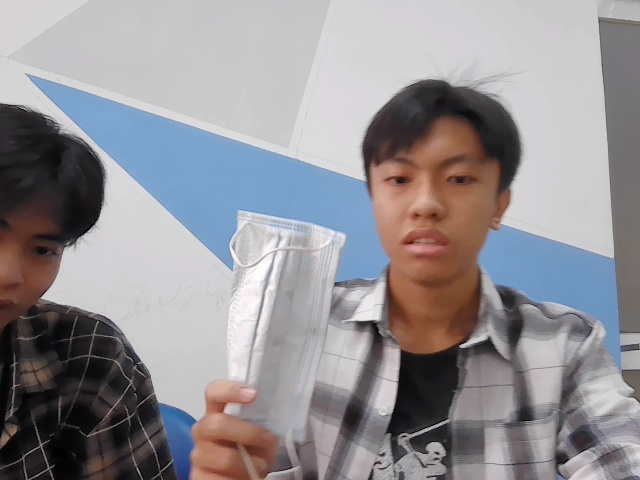human: (367, 76, 524, 282), (2, 104, 104, 334)
mask: (227, 207, 344, 438)
